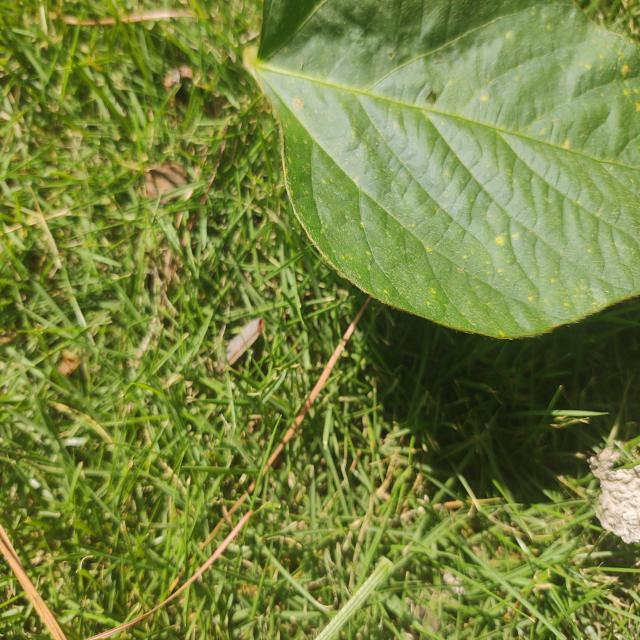Soybean: (252, 0, 640, 349)
downey_mildew: (512, 76, 638, 167), (367, 184, 450, 319), (547, 186, 630, 304), (317, 2, 428, 89), (407, 0, 543, 71), (337, 87, 456, 166), (278, 111, 329, 272), (371, 51, 484, 122), (312, 138, 363, 278), (426, 113, 508, 197), (553, 27, 637, 107), (254, 61, 320, 156), (507, 203, 563, 299), (330, 4, 381, 38), (345, 138, 363, 153)
